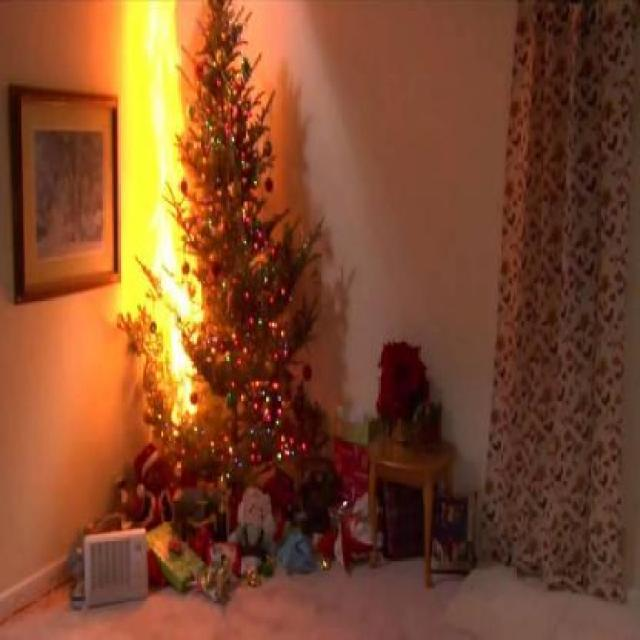Fire: (110, 0, 204, 428)
